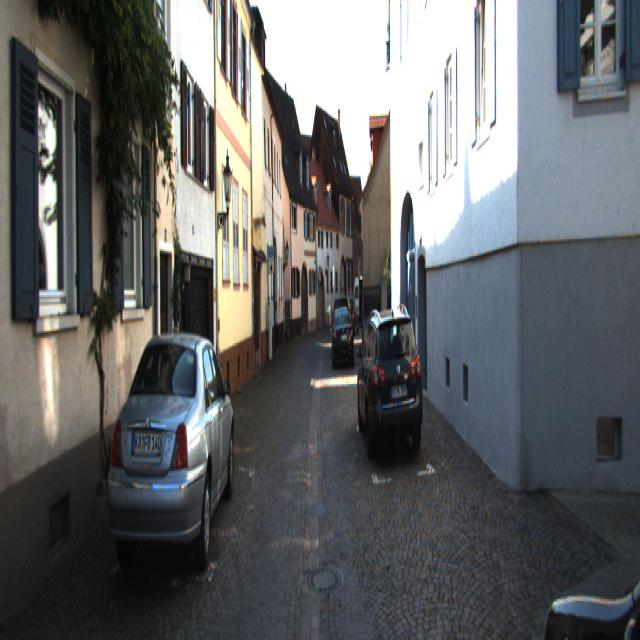Car: (105, 317, 235, 594), (356, 300, 424, 462), (332, 306, 353, 366), (354, 276, 374, 326)
